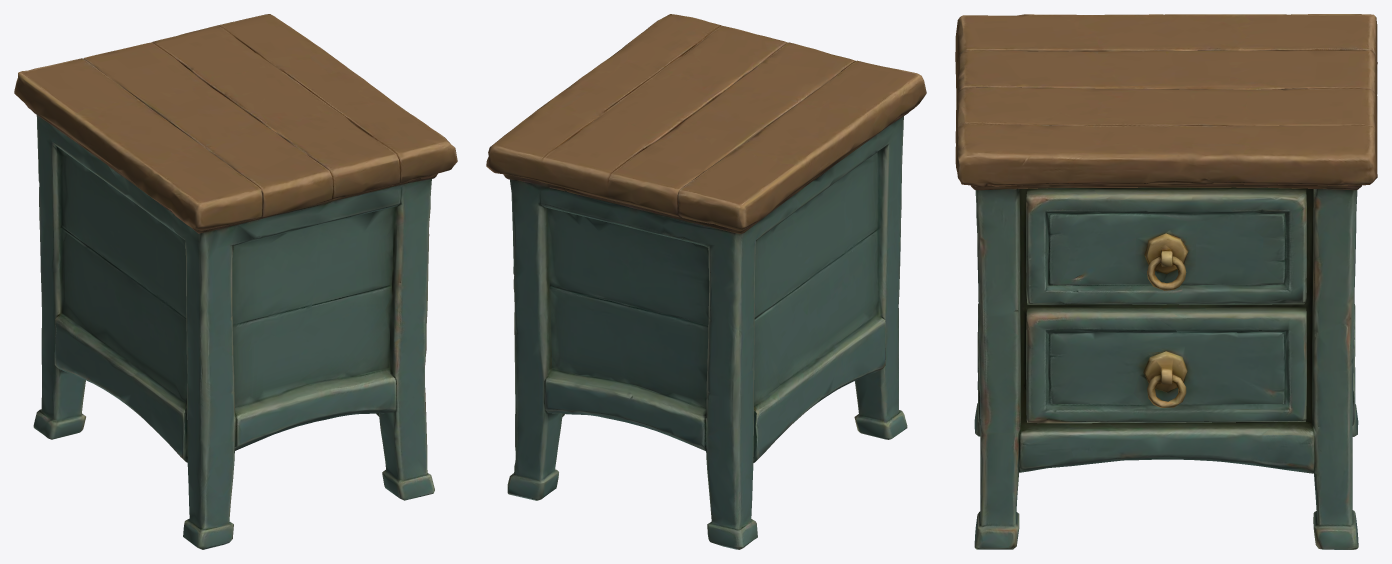
The model's file is mesa_luz.glb.
3 views of the same model, side by side, from view 1: azimuth 30°, elevation 25°; view 2: azimuth 150°, elevation 25°; view 3: azimuth 270°, elevation 25° (orthographic). The views are drawn at different scales.
Visible parts, largest first — view 1: tripo_node_0f00ae18-d3f4-4da2-a887-086ffd456e02; view 2: tripo_node_0f00ae18-d3f4-4da2-a887-086ffd456e02; view 3: tripo_node_0f00ae18-d3f4-4da2-a887-086ffd456e02.
Part boxes in pixels (<box>): tripo_node_0f00ae18-d3f4-4da2-a887-086ffd456e02: <box>14,14,457,549</box>; tripo_node_0f00ae18-d3f4-4da2-a887-086ffd456e02: <box>486,14,926,549</box>; tripo_node_0f00ae18-d3f4-4da2-a887-086ffd456e02: <box>955,14,1377,549</box>.
Bounding box in the file's own units: 0.7759 × 1 × 0.9484.
1 material, 1 textured.
